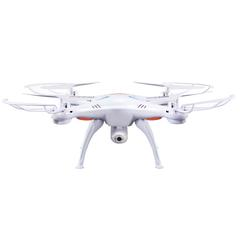drone: (1, 80, 238, 172)
